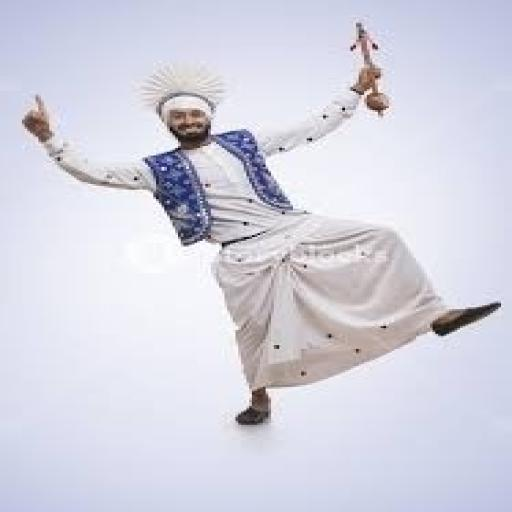dancing: (19, 19, 504, 429)
